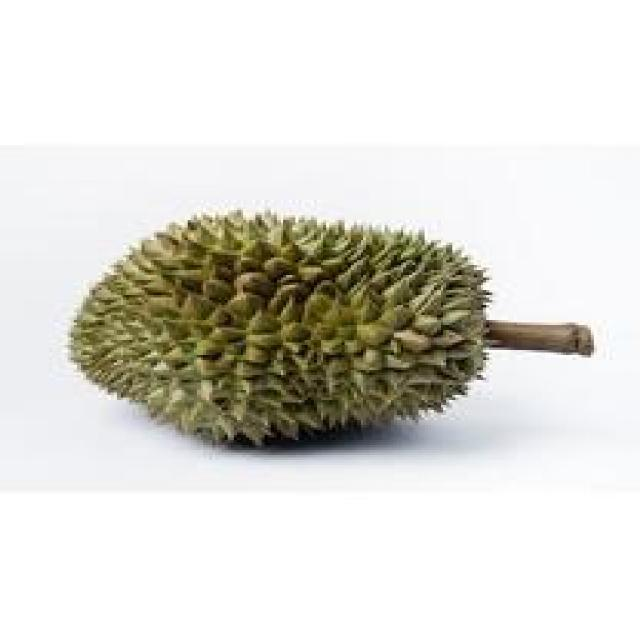fruit: (43, 167, 422, 495)
